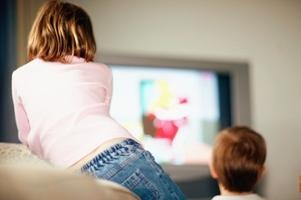person without safety: (14, 1, 127, 147), (205, 119, 271, 197)
